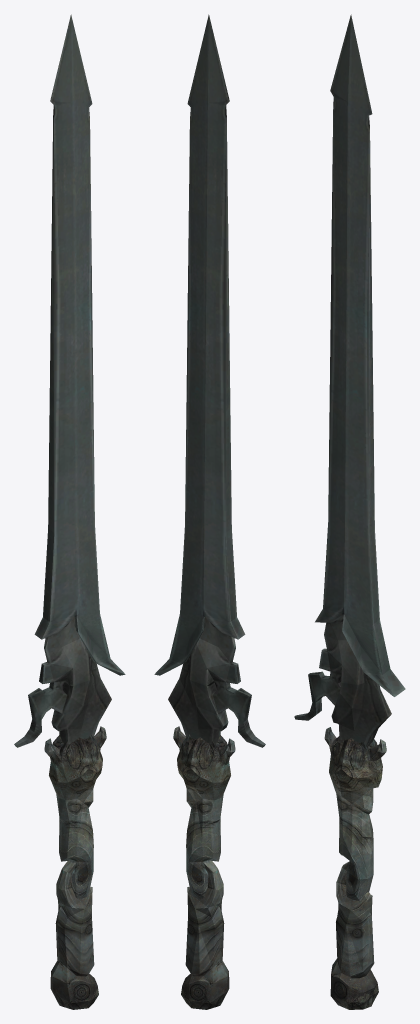
Rendered from rebellion.obj.
3 renders of one model, left to right at view 1: azimuth 30°, elevation 25°; view 2: azimuth 150°, elevation 25°; view 3: azimuth 330°, elevation 25°, orthographic.
Visible parts, largest first — view 1: rdmobj00.003, rdmobj01.001; view 2: rdmobj00.003, rdmobj01.001; view 3: rdmobj00.003, rdmobj01.001.
Boxes of the visible parts, <box> form: rdmobj00.003: <box>14,14,125,747</box>; rdmobj01.001: <box>44,726,106,1009</box>; rdmobj00.003: <box>154,14,265,747</box>; rdmobj01.001: <box>173,726,235,1009</box>; rdmobj00.003: <box>294,14,405,746</box>; rdmobj01.001: <box>324,727,386,1009</box>.
Bounding box in the file's own units: 0.5364 × 4.84 × 0.2441.
Materials: 2 (2 with a texture image).
